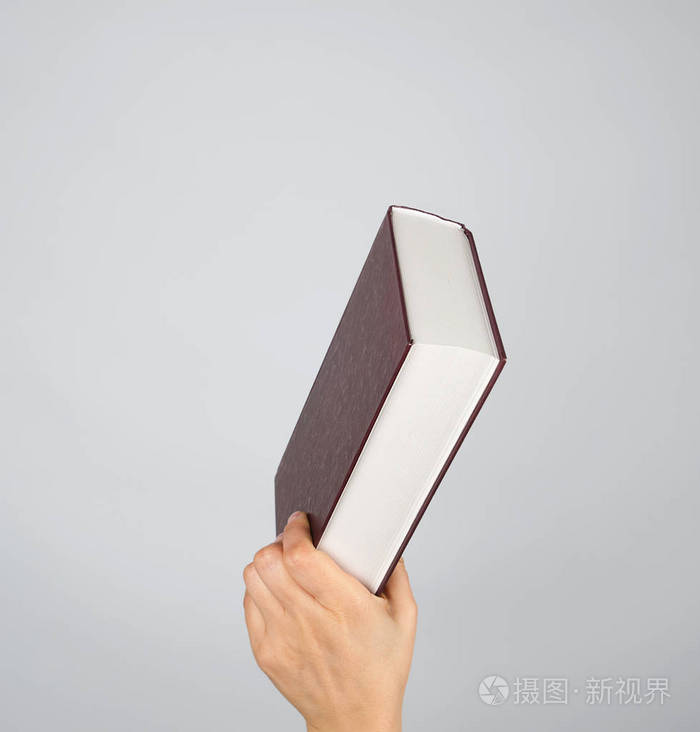no-phone: (242, 198, 506, 732)
